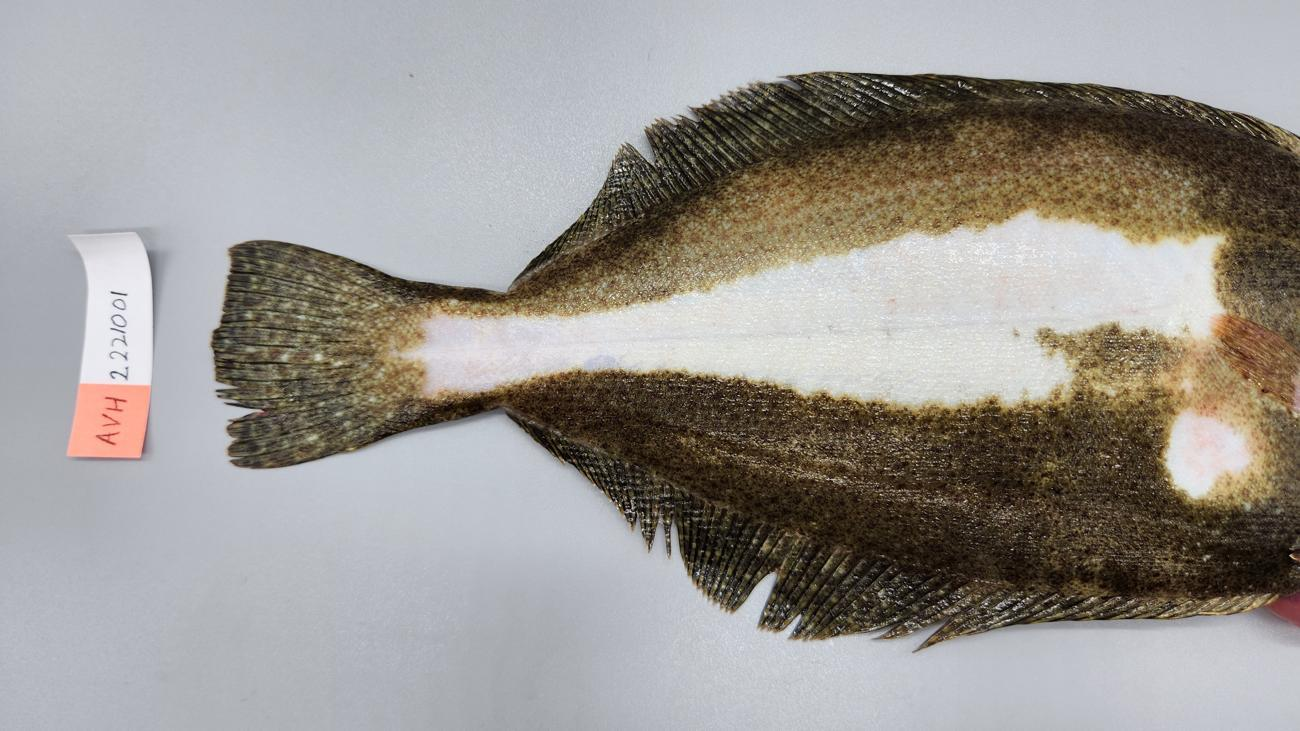VIDYH: (1182, 309, 1269, 481)
VIFCH: (217, 392, 280, 430)
